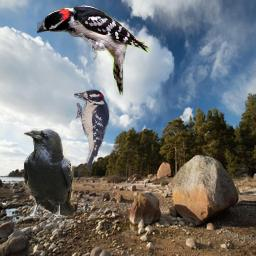Crow: (22, 128, 75, 218)
Woodpecker: (37, 4, 152, 98), (74, 88, 111, 172)
